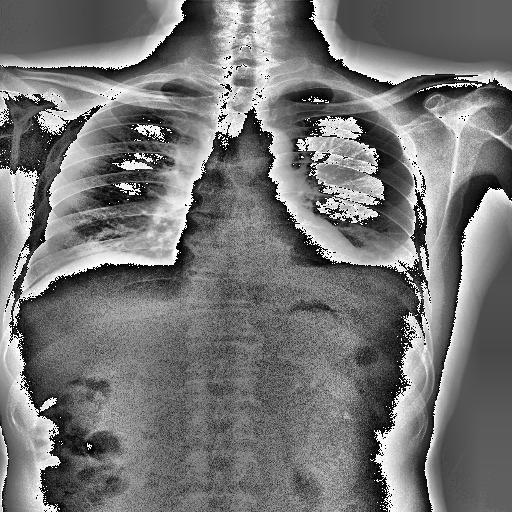10- Pleural effusion: (311, 220, 426, 292), (300, 221, 420, 286), (384, 234, 419, 288)
